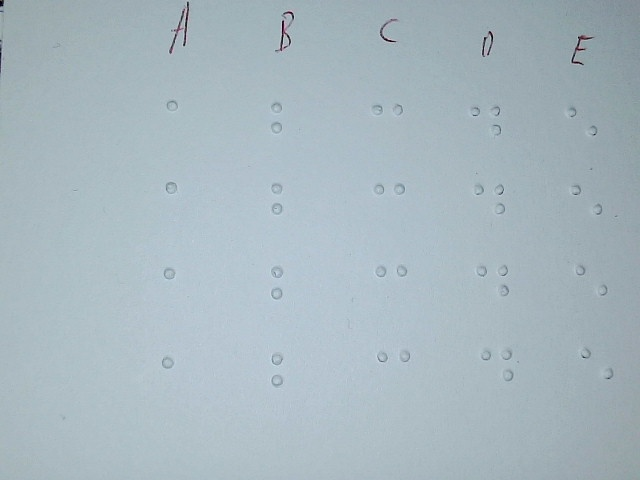A: (159, 91, 207, 163), (157, 172, 205, 244), (155, 258, 203, 330), (155, 348, 203, 420)
B: (265, 94, 309, 162), (264, 175, 308, 243), (264, 259, 308, 327), (264, 346, 308, 414)
C: (367, 95, 410, 162), (368, 174, 411, 241), (370, 256, 413, 323), (372, 341, 415, 408)
